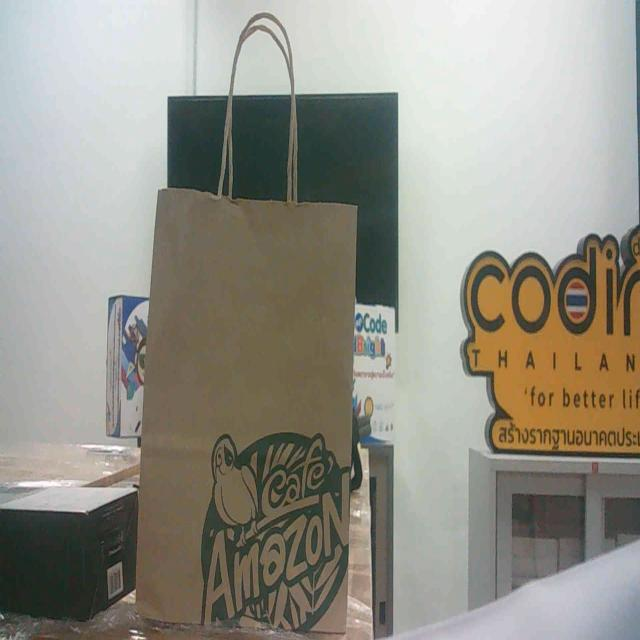bag: (123, 148, 385, 640)
